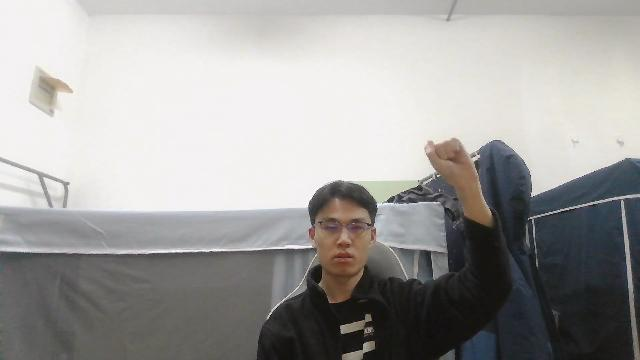ten: (421, 135, 481, 200)
